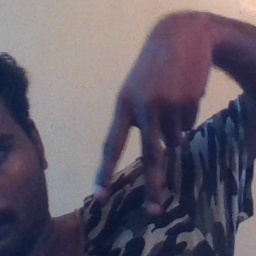Y: (86, 70, 188, 227)
